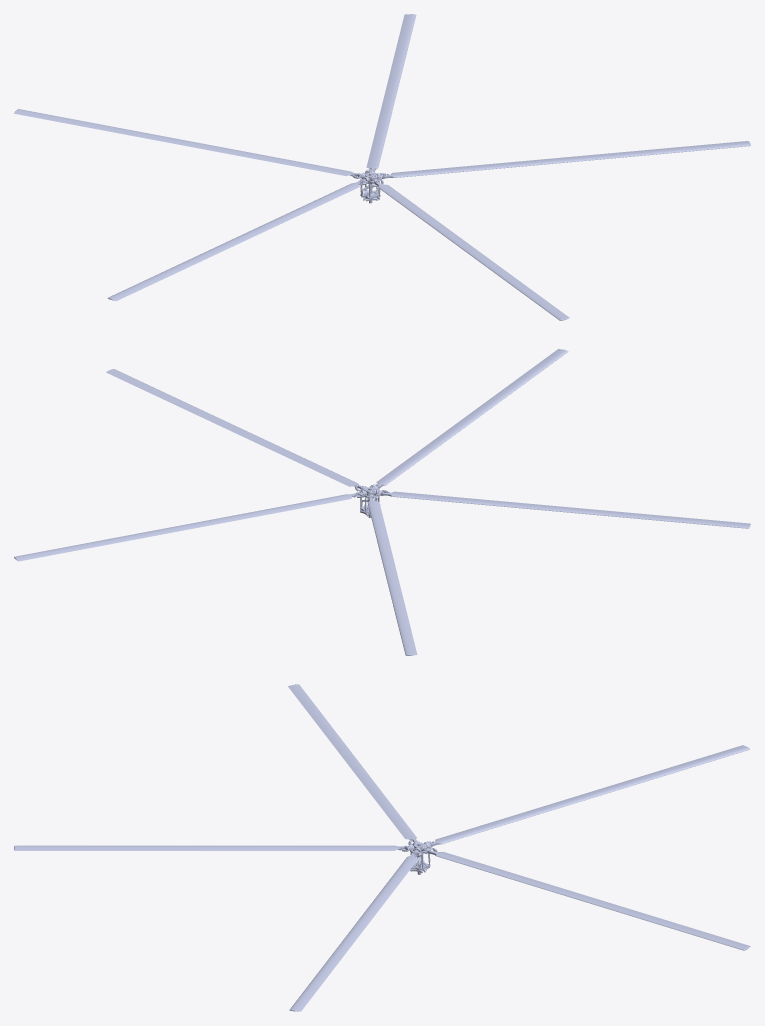
File: helice detalhada.fbx
The picture shows the model from 3 angles, top to bottom: view 1: azimuth 30°, elevation 25°; view 2: azimuth 150°, elevation 25°; view 3: azimuth 270°, elevation 25°; orthographic projection. The views are drawn at different scales.
Parts seen in each view (by area): view 1: Congé4 (×5); view 2: Congé4 (×5); view 3: Congé4 (×5).
Boxes of the visible parts, x1,y1,x2,y2 form: Congé4 (×5): [14, 14, 750, 320]; Congé4 (×5): [14, 349, 750, 655]; Congé4 (×5): [14, 684, 750, 1011].
Size of the model in its own units: 14293 by 13612 by 620.
